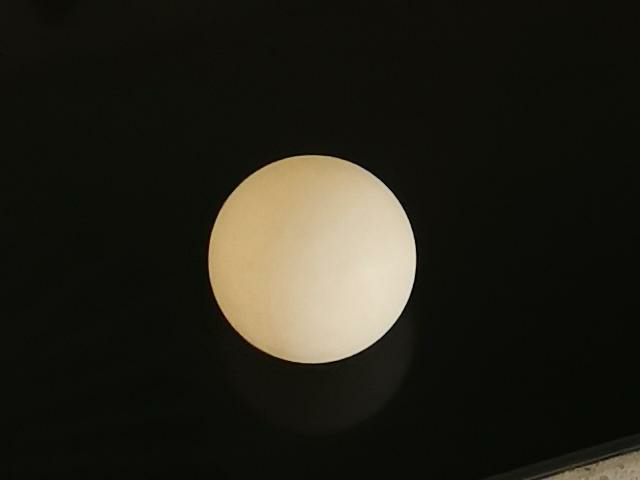ball: (209, 155, 417, 366)
